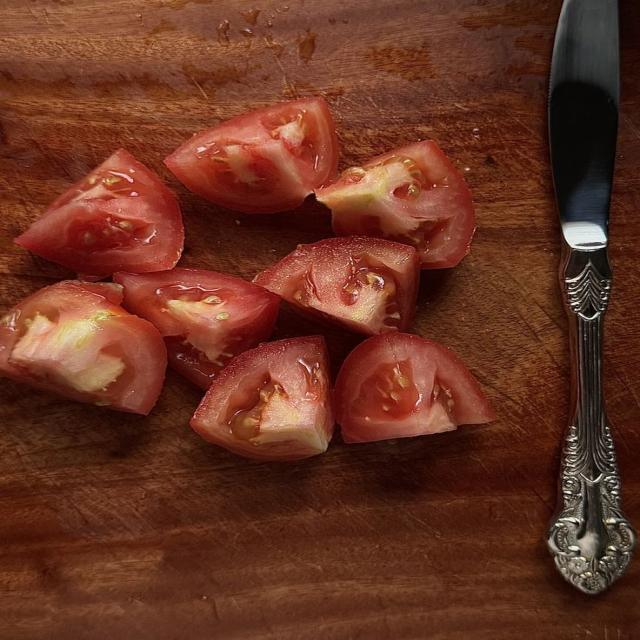sliced_tomato: (0, 281, 166, 414), (15, 149, 184, 278), (316, 141, 474, 268), (114, 269, 279, 389), (165, 98, 338, 212), (191, 336, 333, 460), (334, 334, 495, 442), (254, 237, 419, 334)
